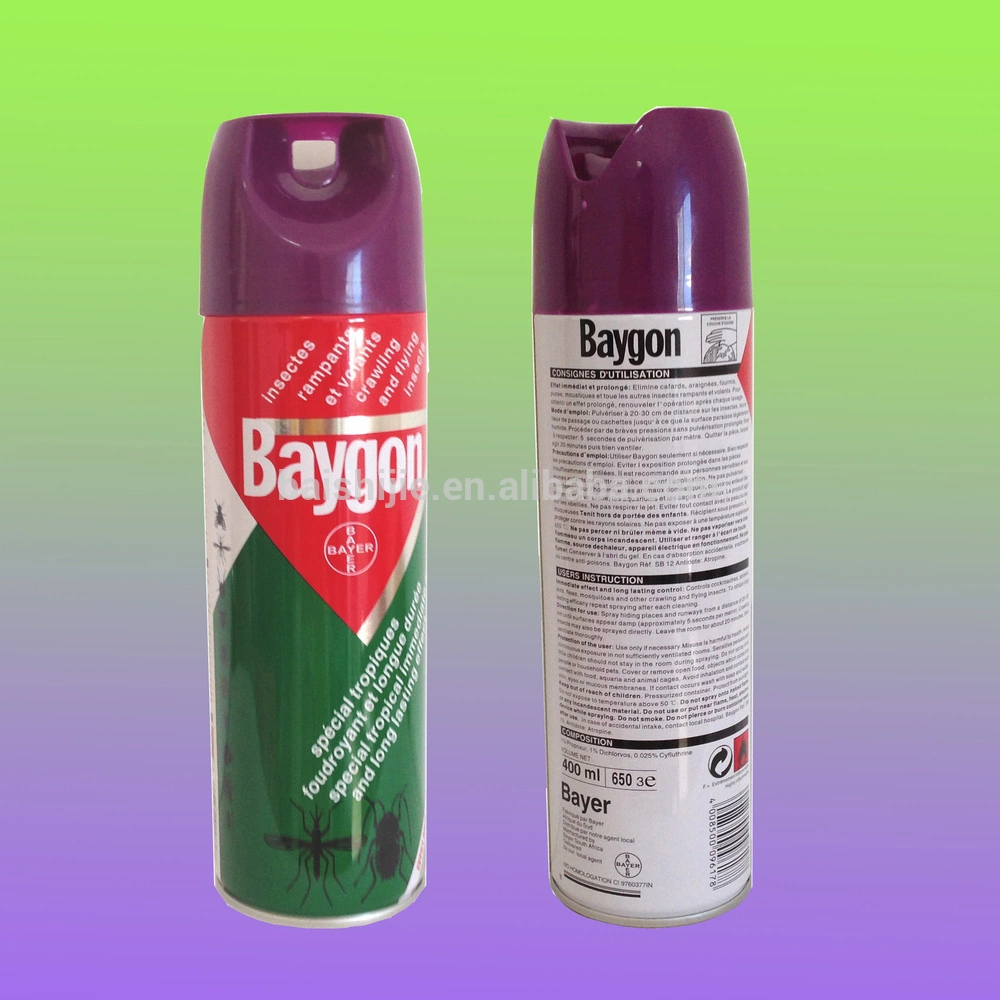Insecticide: (514, 98, 765, 934), (188, 102, 436, 939)
